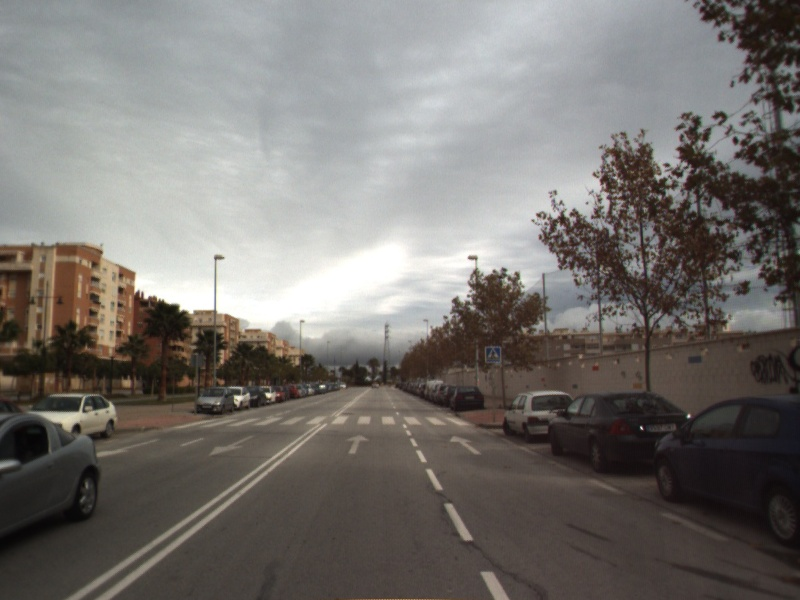STRAIGHT: (448, 433, 483, 456), (344, 432, 371, 455)
